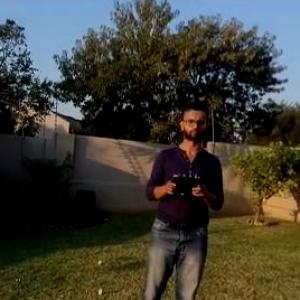follow: (135, 92, 232, 299)
